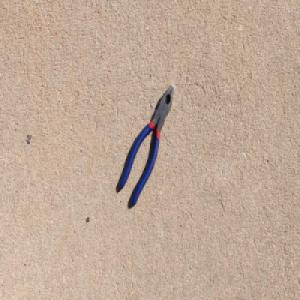Pliers: (118, 82, 175, 209)
